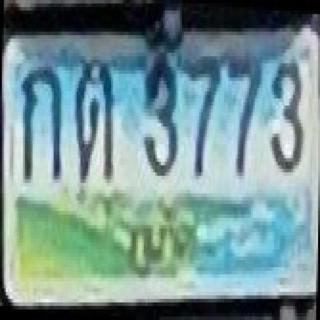A01: (17, 64, 69, 184)
A20: (69, 62, 125, 185)
N03: (137, 61, 184, 177), (265, 58, 307, 175)
N07: (224, 59, 267, 179), (182, 60, 223, 179)
P48: (126, 205, 199, 276)
